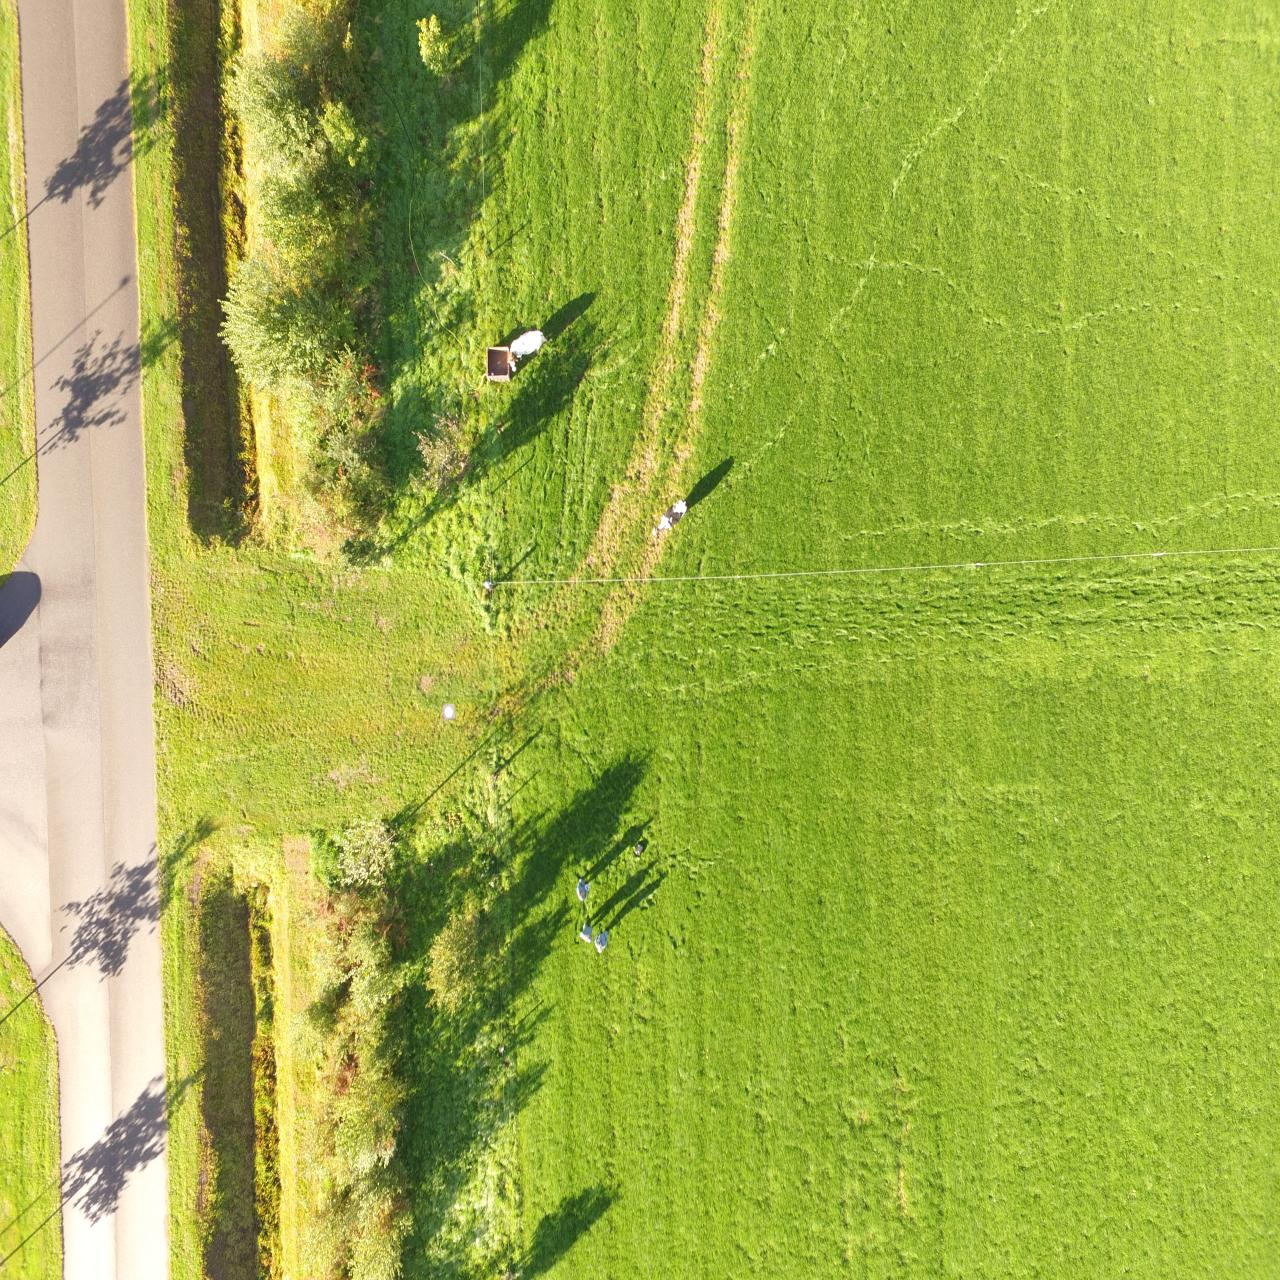cow: (505, 332, 549, 372), (651, 496, 689, 536)
